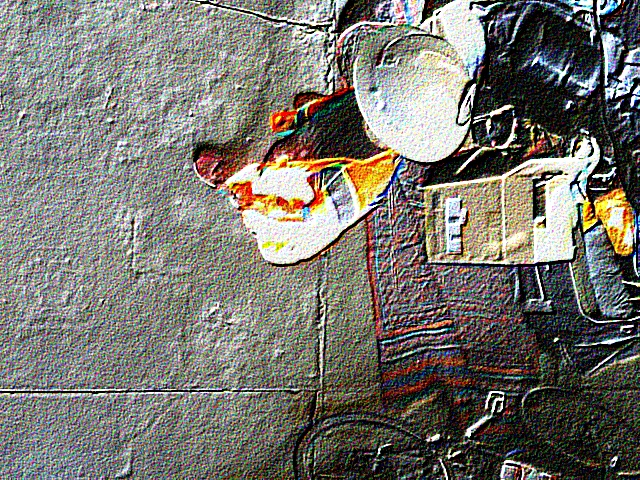one: (457, 83, 477, 126)
